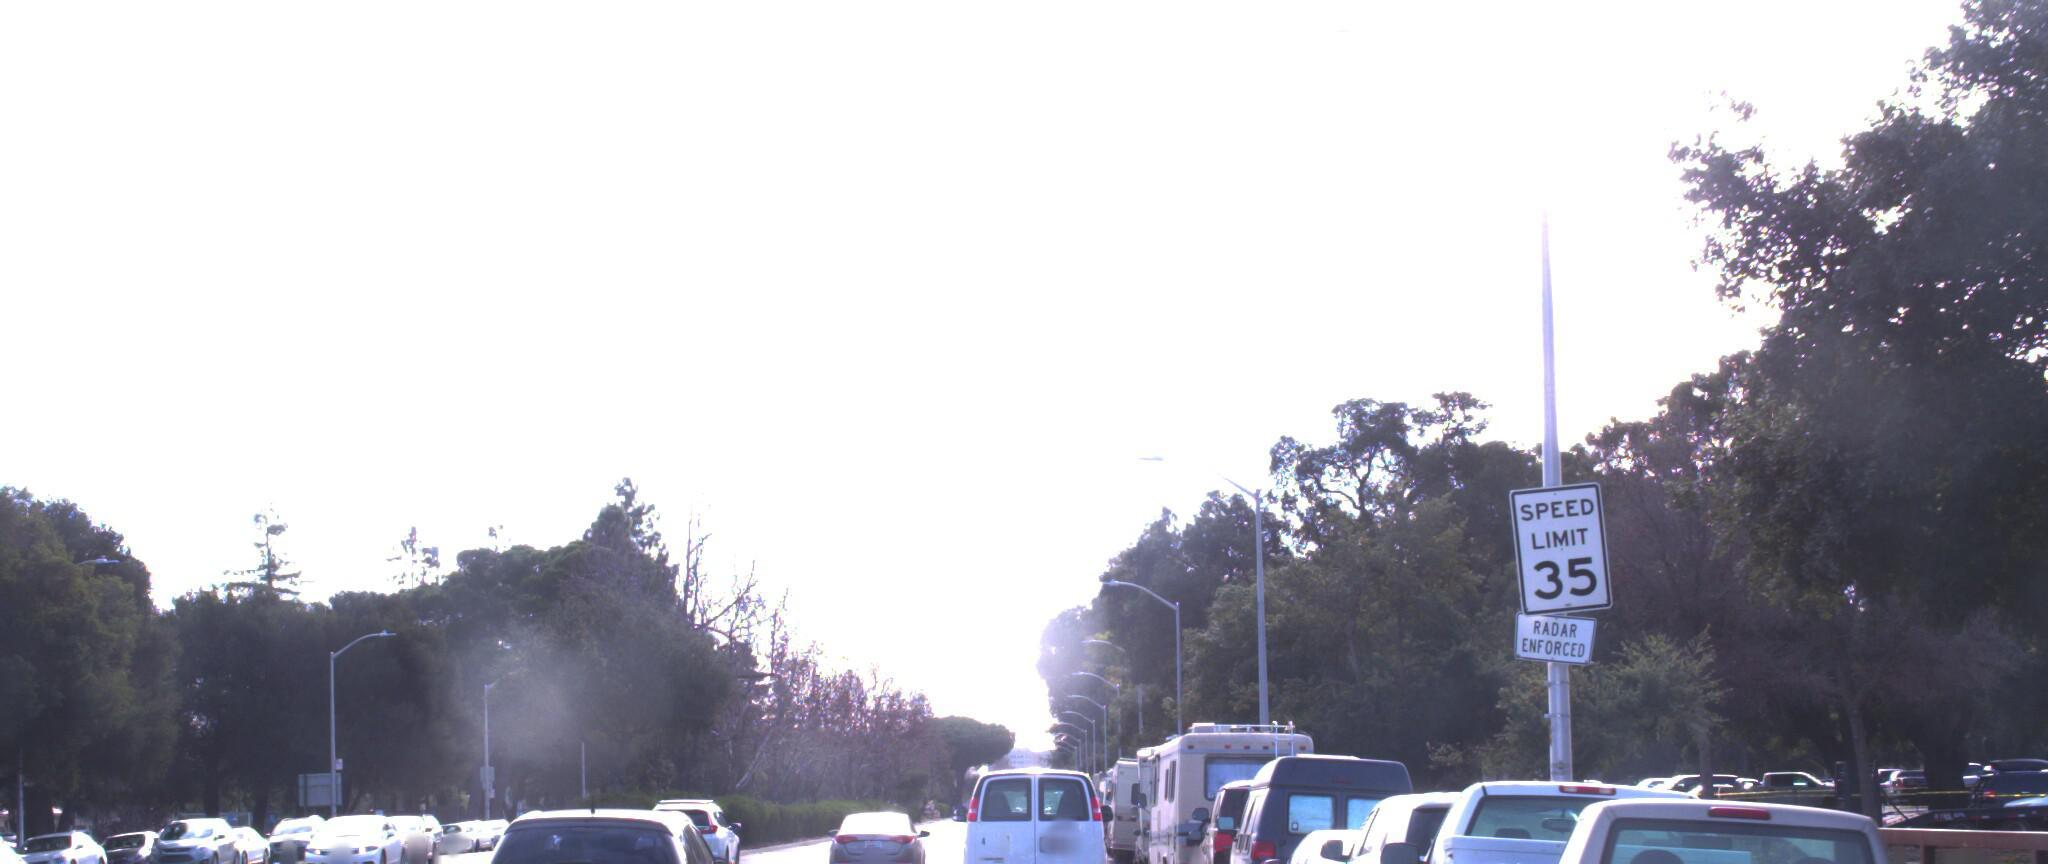car: (1366, 761, 1849, 864), (1472, 780, 2043, 864), (1300, 773, 1620, 864), (1208, 736, 1428, 864), (444, 782, 761, 864), (957, 739, 1104, 864), (1190, 757, 1353, 864), (1249, 809, 1479, 864), (0, 791, 152, 864), (637, 780, 755, 864), (296, 786, 410, 861), (824, 788, 925, 864), (0, 813, 114, 864)
other_vehicle: (1128, 694, 1319, 864), (1098, 733, 1209, 854)
